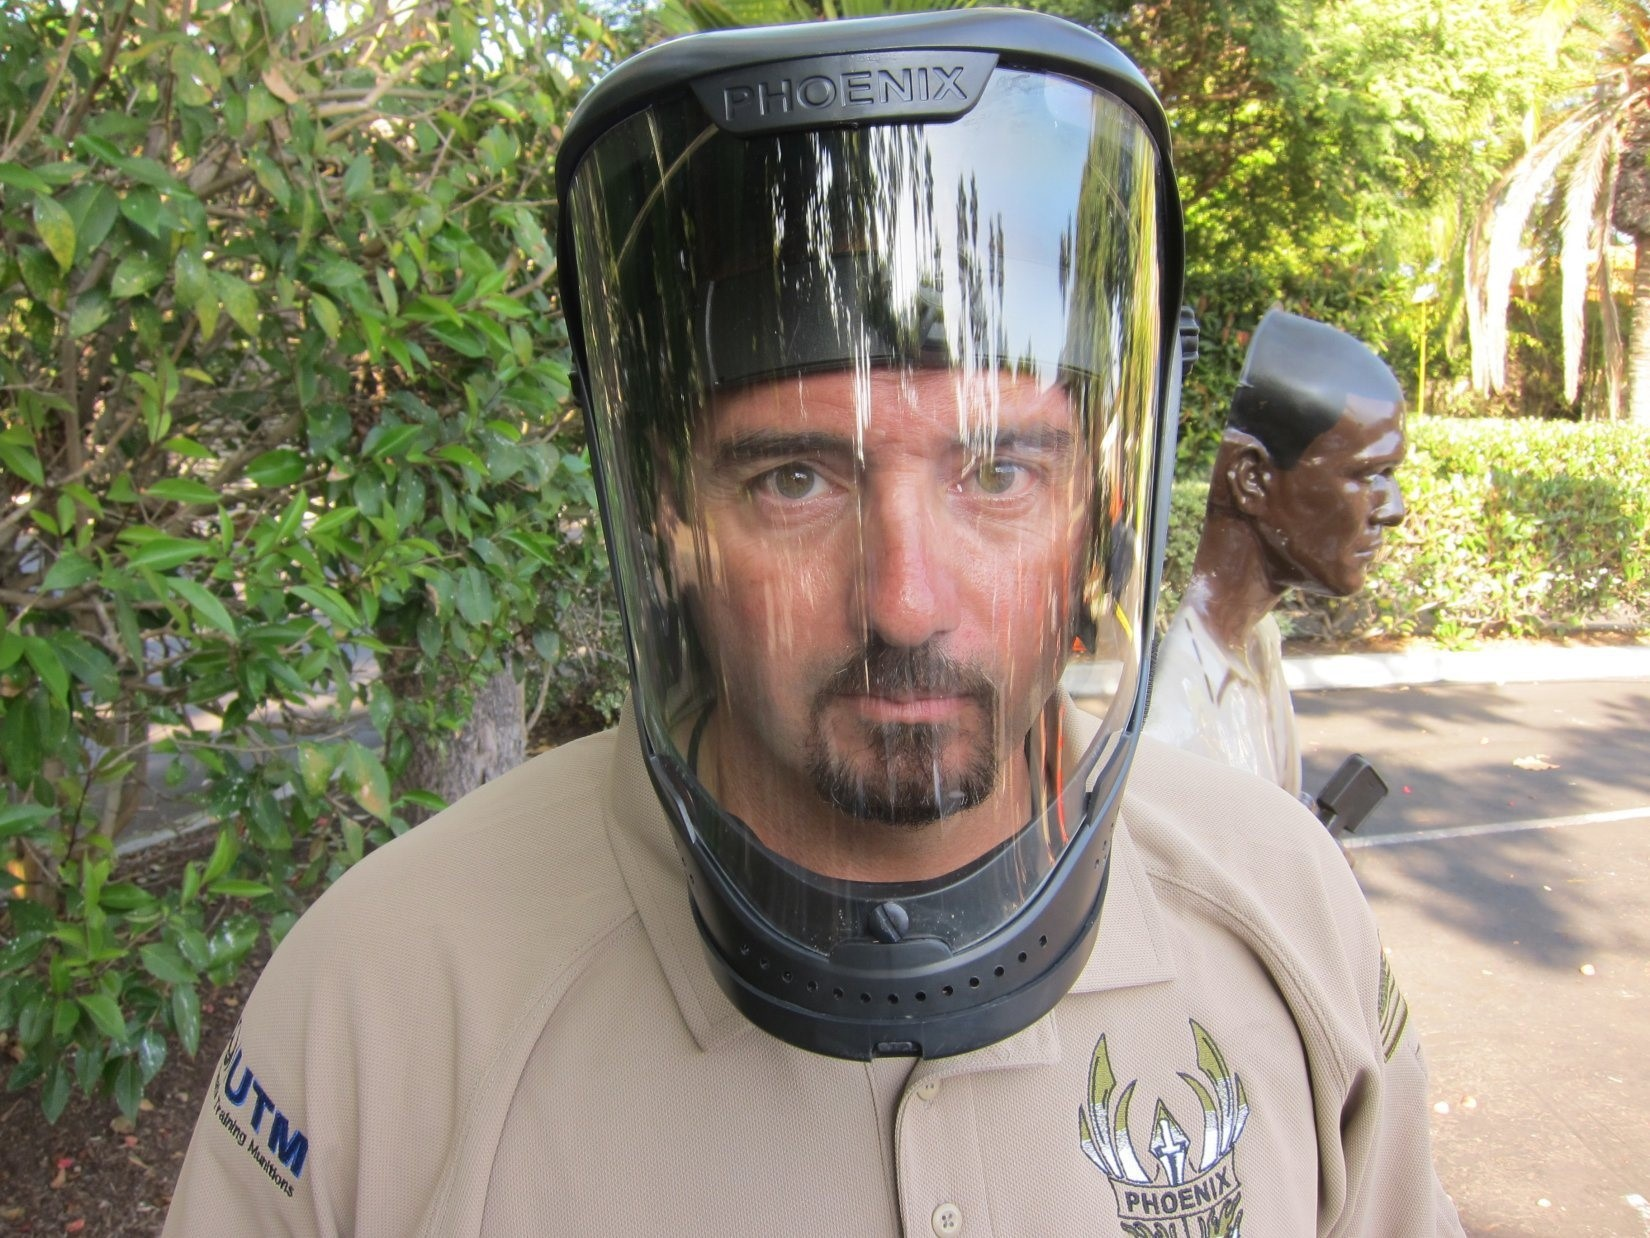face_no_mask: (656, 320, 1104, 832)
